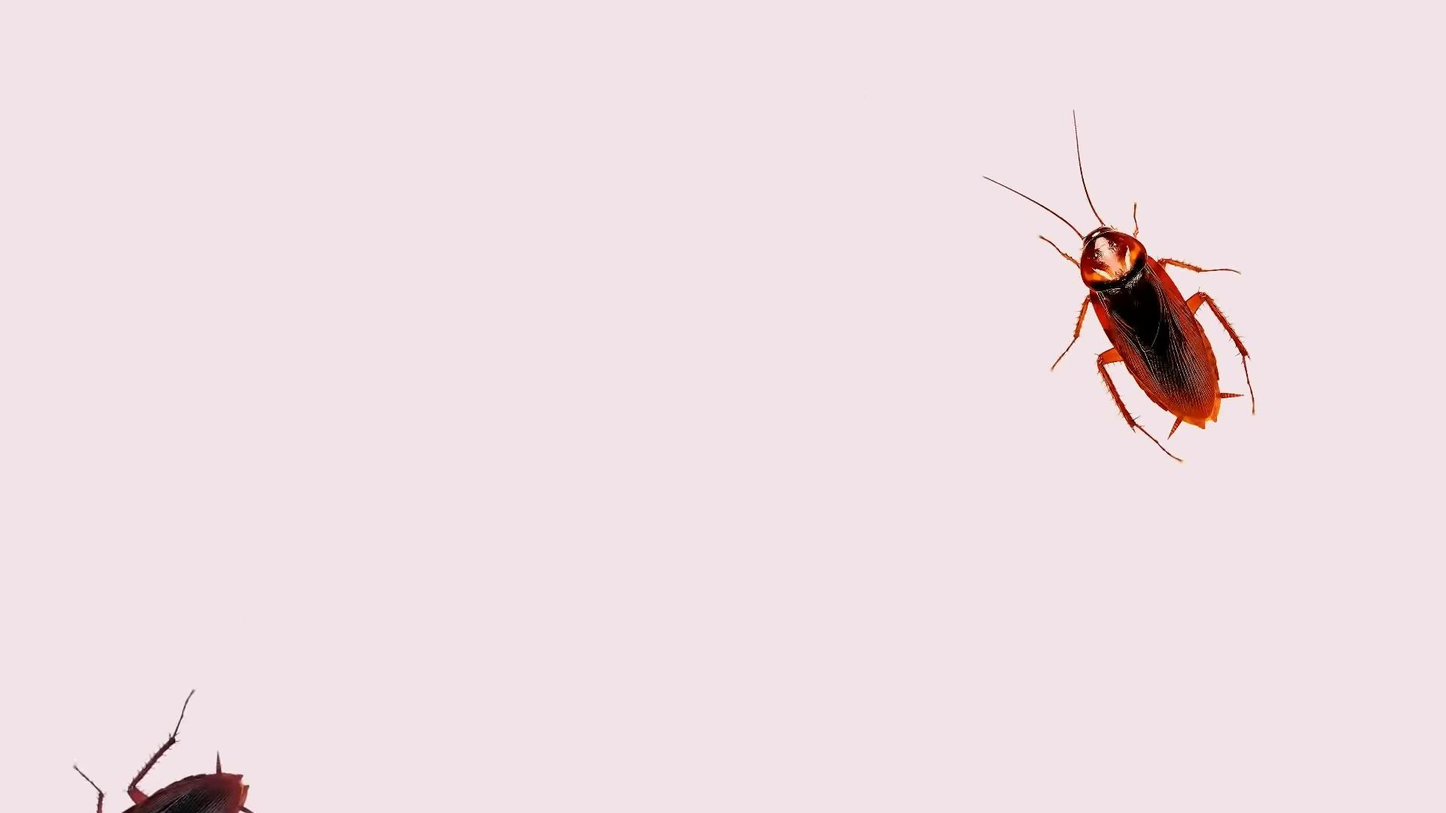cockroach: (990, 145, 1262, 456)
